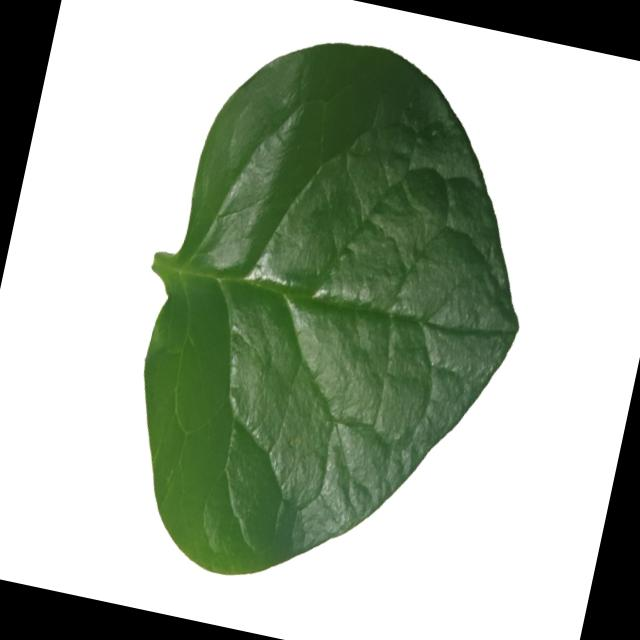Medicinal-Basale: (91, 7, 572, 622)
